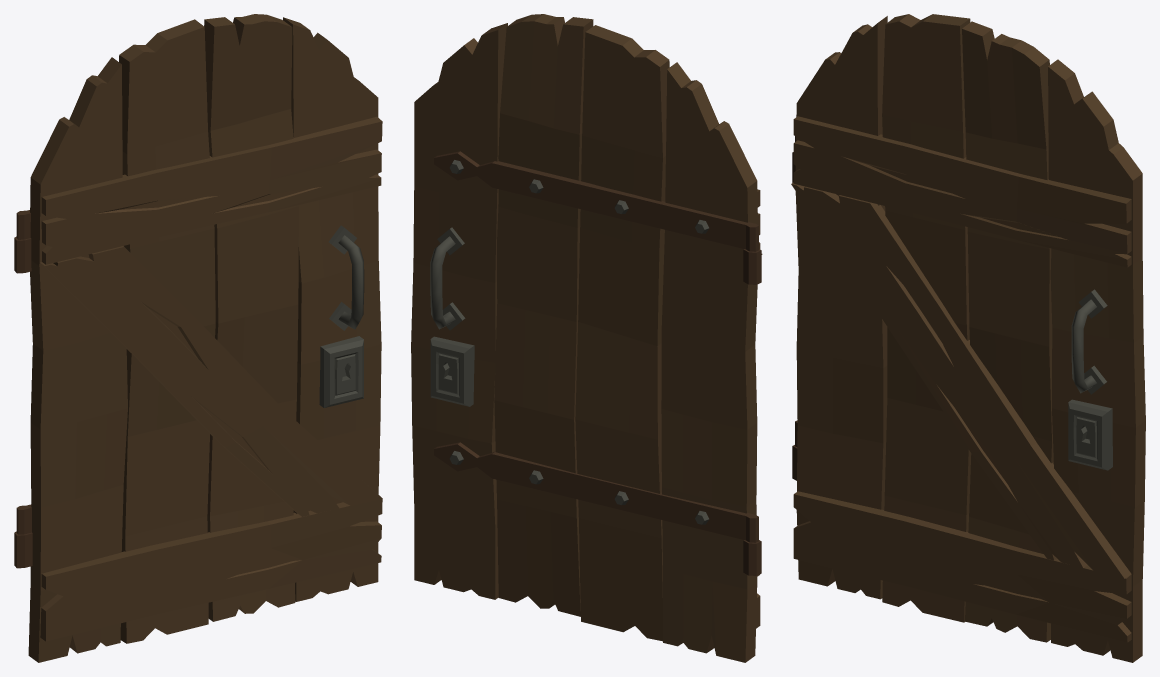
File: wood_door_L.gltf
3 renders of one model, left to right at view 1: azimuth 30°, elevation 25°; view 2: azimuth 150°, elevation 25°; view 3: azimuth 330°, elevation 25°, orthographic.
Visible parts, largest first — view 1: Door_Wooden_Left; view 2: Door_Wooden_Left; view 3: Door_Wooden_Left.
Part boxes in pixels (x1,y1,x2,y2): Door_Wooden_Left: [14, 14, 382, 662]; Door_Wooden_Left: [411, 14, 762, 662]; Door_Wooden_Left: [791, 14, 1145, 662].
Size of the model in its own units: 1.34 by 2.17 by 0.3294.
Materials: 2 (2 with a texture image).
